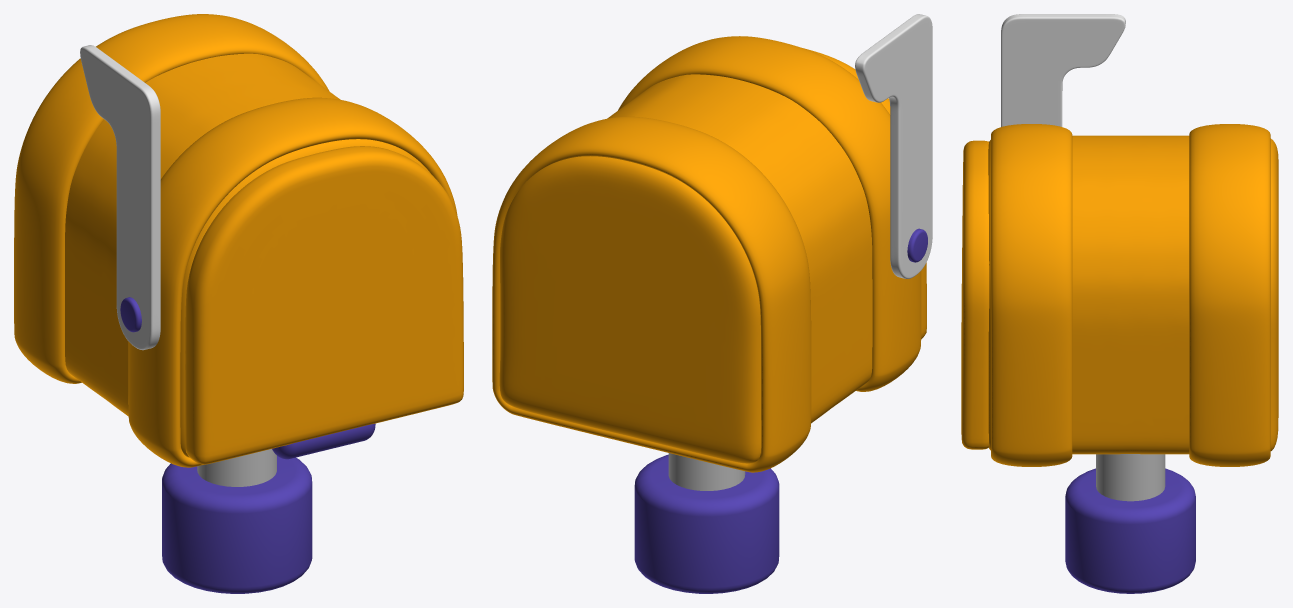
File: mail-not-found-animated-3d-icon-953246036869.glb
3 views of the same model, side by side, from view 1: azimuth 30°, elevation 25°; view 2: azimuth 150°, elevation 25°; view 3: azimuth 270°, elevation 25° (orthographic). The views are drawn at different scales.
Visible parts, largest first — view 1: Door.001, Detail.001, Mail Box, Stand 2, Handle, Stand 1, Hinge.001, Hinge; view 2: Mail Box, Detail.001, Stand 2, Handle, Stand 1, Door.001; view 3: Detail.001, Mail Box, Stand 2, Handle, Door.001, Stand 1.
Part boxes in pixels (x1,y1,x2,y2): Door.001: [185, 146, 463, 464]; Detail.001: [14, 14, 457, 467]; Mail Box: [65, 53, 430, 457]; Stand 2: [162, 456, 312, 593]; Handle: [80, 45, 160, 350]; Stand 1: [197, 449, 276, 486]; Hinge.001: [272, 423, 375, 459]; Hinge: [120, 297, 141, 332]; Mail Box: [499, 74, 872, 463]; Detail.001: [492, 36, 921, 472]; Stand 2: [634, 454, 779, 593]; Handle: [855, 14, 932, 278]; Stand 1: [668, 453, 745, 490]; Door.001: [803, 48, 926, 338]; Detail.001: [991, 124, 1270, 466]; Mail Box: [988, 135, 1278, 454]; Stand 2: [1065, 468, 1195, 593]; Handle: [1001, 14, 1125, 126]; Door.001: [961, 140, 989, 449]; Stand 1: [1096, 454, 1165, 501].
Bounding box in the file's own units: 1.83 × 3.13 × 1.84.
